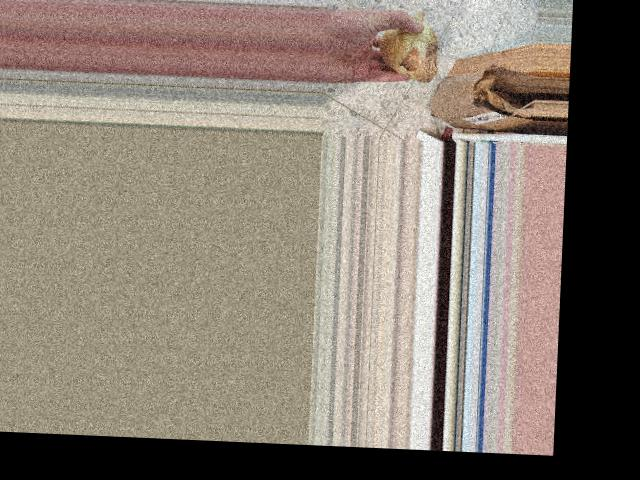onion: (373, 10, 447, 85)
